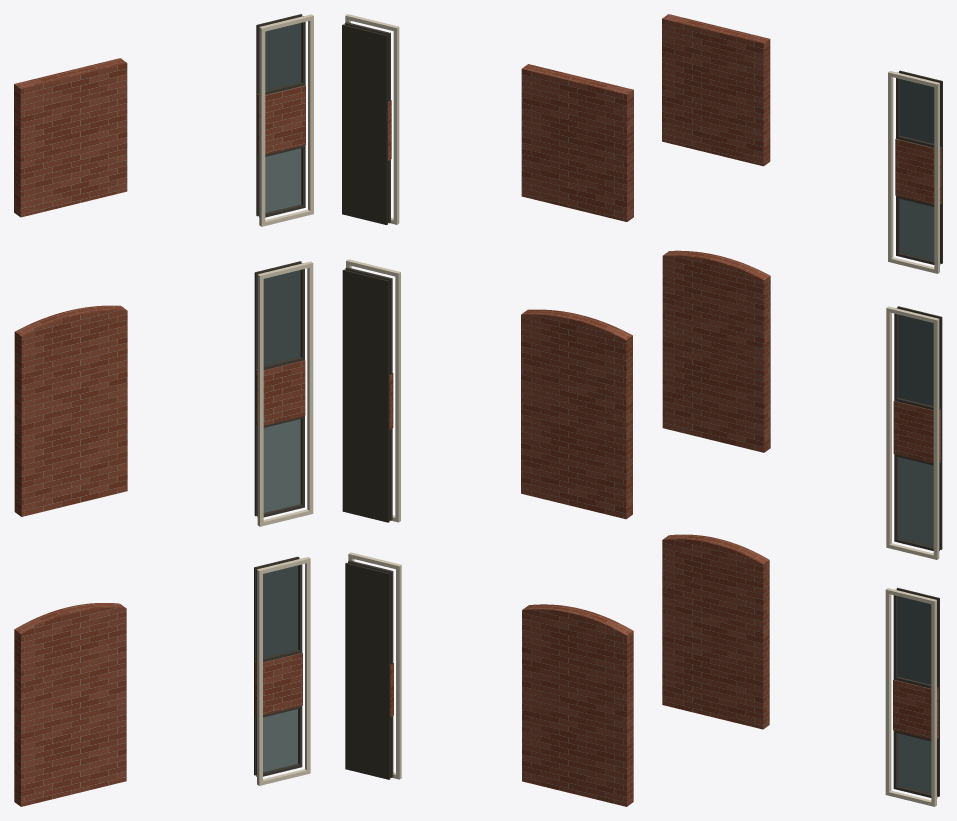
The model's file is 2017-brick-and-glass-study.glb.
3 renders of one model, left to right at view 1: azimuth 30°, elevation 25°; view 2: azimuth 150°, elevation 25°; view 3: azimuth 330°, elevation 25°, orthographic. The views are drawn at different scales.
Parts seen in each view (by area): view 1: 2017-brick-and-glass-study; view 2: 2017-brick-and-glass-study; view 3: 2017-brick-and-glass-study.
Part boxes in pixels (left/top/right/bottom): 2017-brick-and-glass-study: left=14, top=14, right=313, bottom=806; 2017-brick-and-glass-study: left=342, top=14, right=633, bottom=806; 2017-brick-and-glass-study: left=662, top=14, right=942, bottom=806.
Bounding box in the file's own units: 3.36 × 8.35 × 0.18.
Materials: 6 (1 with a texture image).
